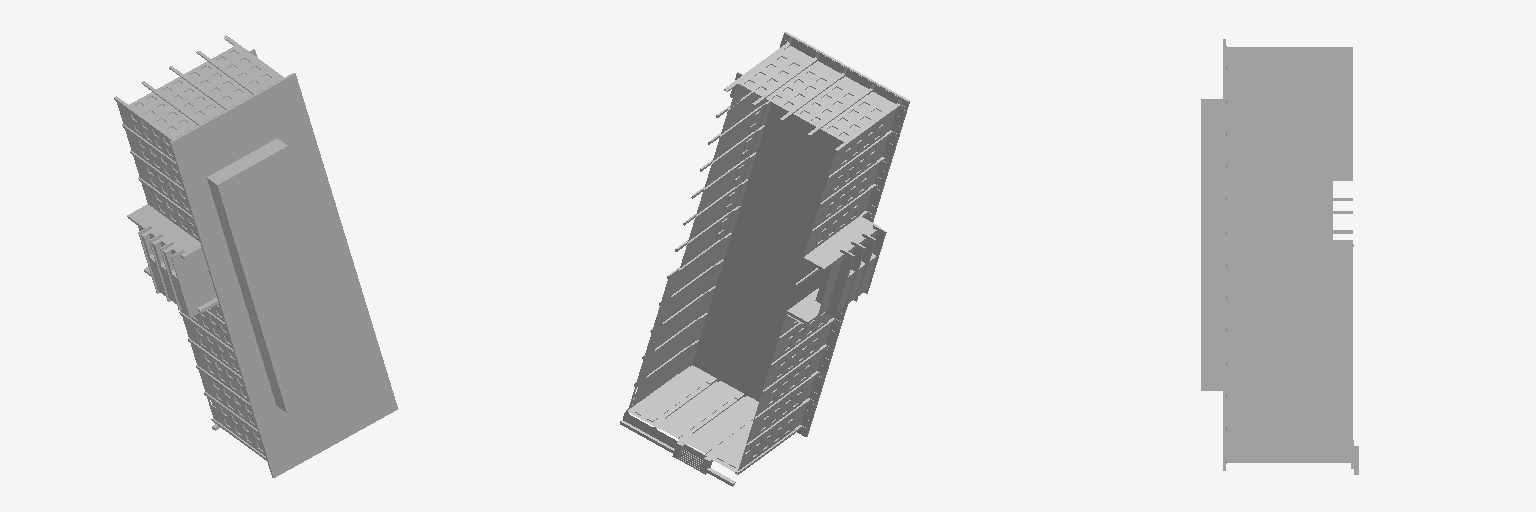
File: Site32-Buildings.obj
3 views of the same model, side by side, from view 1: azimuth 30°, elevation 25°; view 2: azimuth 150°, elevation 25°; view 3: azimuth 270°, elevation 25° (orthographic).
Size of the model in its own units: 157 by 265 by 94.83.